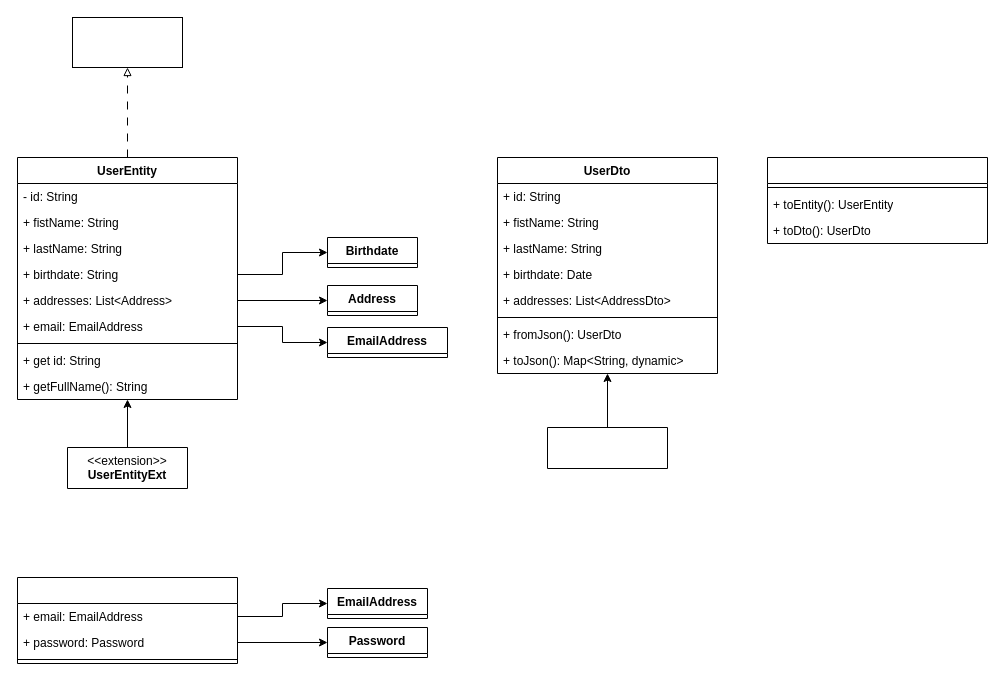
Image size: 1005x681. Some labels were removed from this diagram. The shapes that lost their labels are listed below. From the top down, each one's box as (x1, y1, x2, y2) in pixels, then its label:
(72, 16, 182, 68): «interface» Entity
(766, 156, 988, 244): UserMapper
(546, 426, 668, 468): <<extension>> UserDtoExt
(16, 576, 238, 664): UserCredentials
